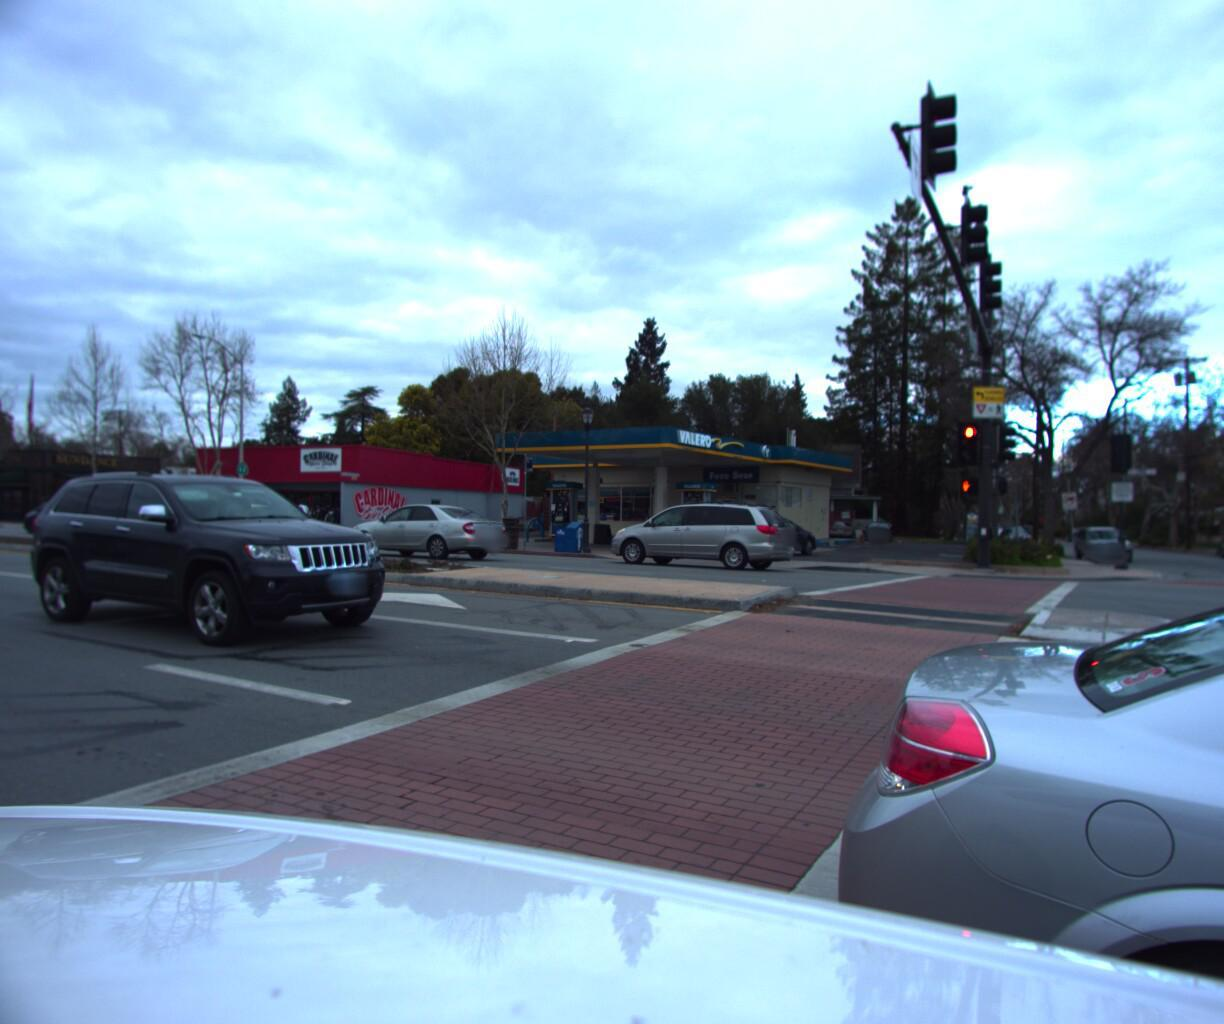car: (15, 460, 422, 661), (604, 499, 802, 570), (333, 505, 511, 563), (7, 502, 117, 540), (1067, 523, 1136, 565), (829, 520, 858, 546), (864, 521, 892, 547), (1208, 524, 1224, 561)
